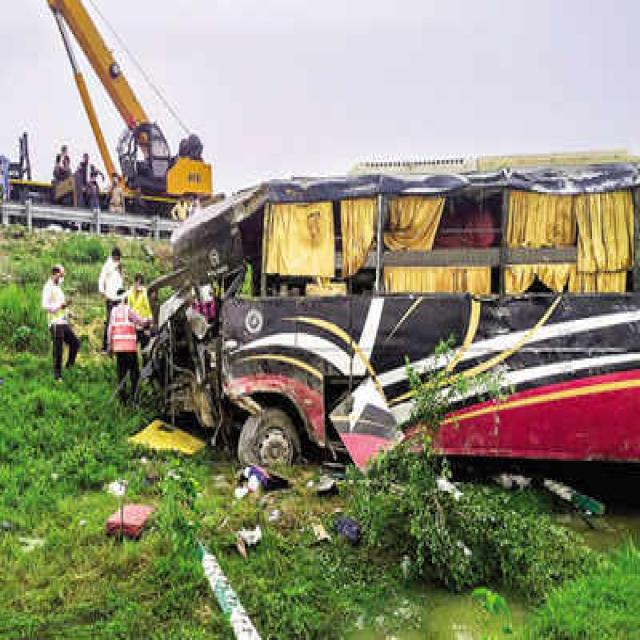accident: (151, 153, 640, 488)
truck: (48, 0, 211, 212)
